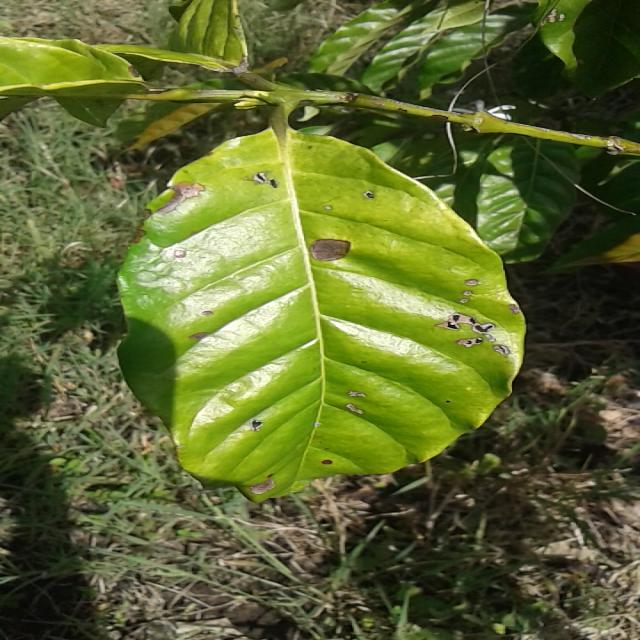Plaga-AranaRoja: (116, 128, 528, 506)
